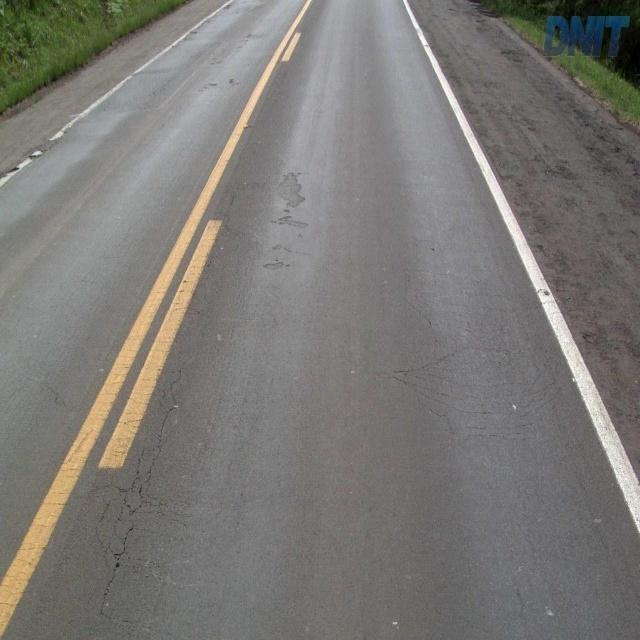pothole: (264, 167, 311, 274)
